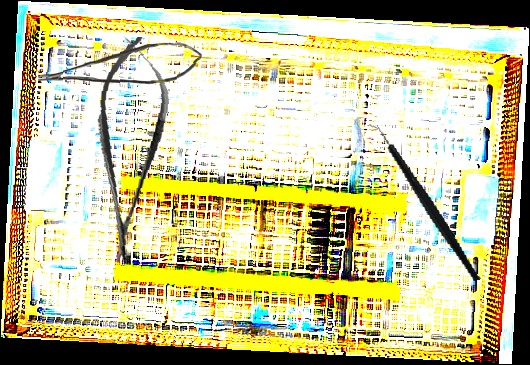Chopper: (361, 107, 483, 298)
Micro Scissor: (82, 33, 176, 266), (37, 40, 203, 87)
